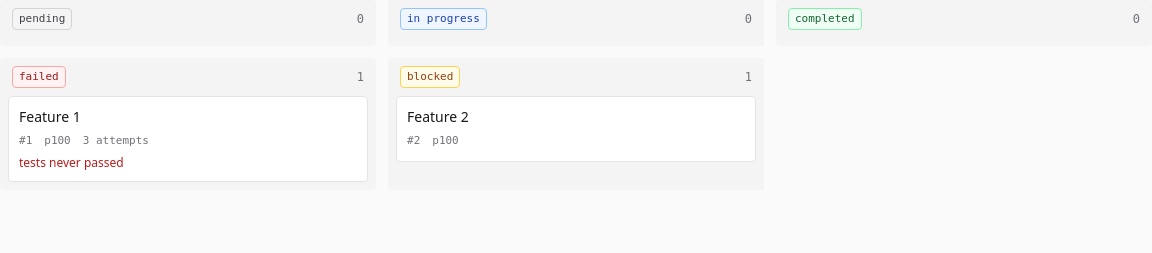
FeatureBoard › renders columns, failure reasons and dependencies
The width and height of the screenshot is (1152, 253).
Expected: the text "tests never passed" is shown, left=19, top=154, right=124, bottom=171
Expected: the text "3 attempts" is shown, left=83, top=131, right=149, bottom=151
What coordinates should you click on to do the following:
click the button "Feature 2"
I would click on:
 (438, 116)
Its box is left=407, top=107, right=745, bottom=127.
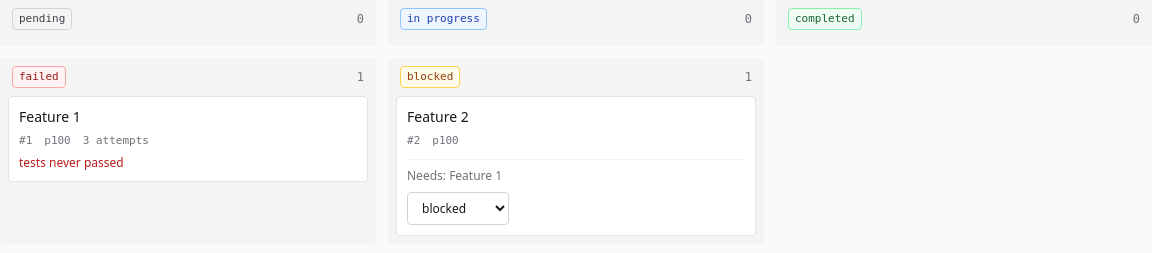
Now the text "Needs: Feature 1" is shown, box left=407, top=167, right=502, bottom=184
